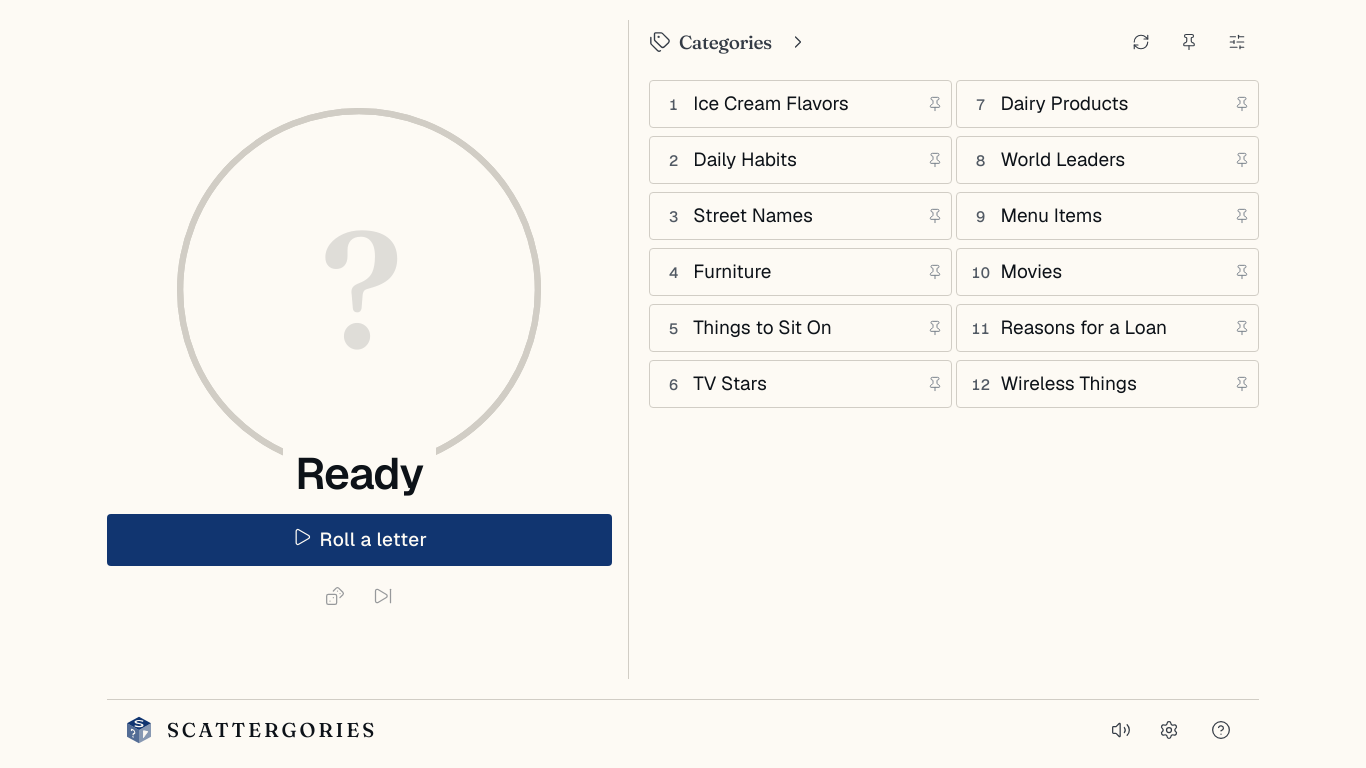
Test: reveals category tools with the category shortcut
Expected: the heading "Scattergories" is shown, [167,720,377,740]
Click the button named "Hide categories": (798, 42) [776,20,820,64]
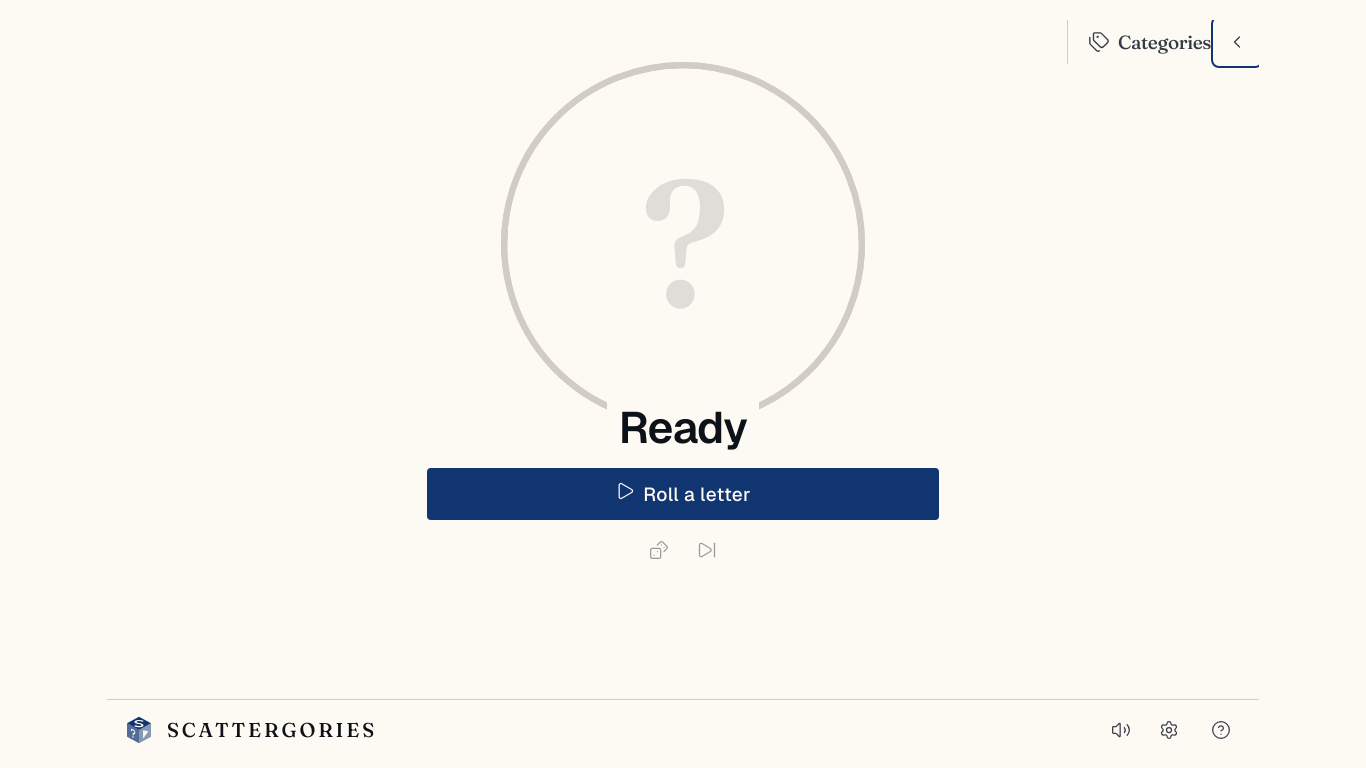
Expected: the button named "Open categories" is collapsed, [1215,20,1259,64]
Type keys "c"
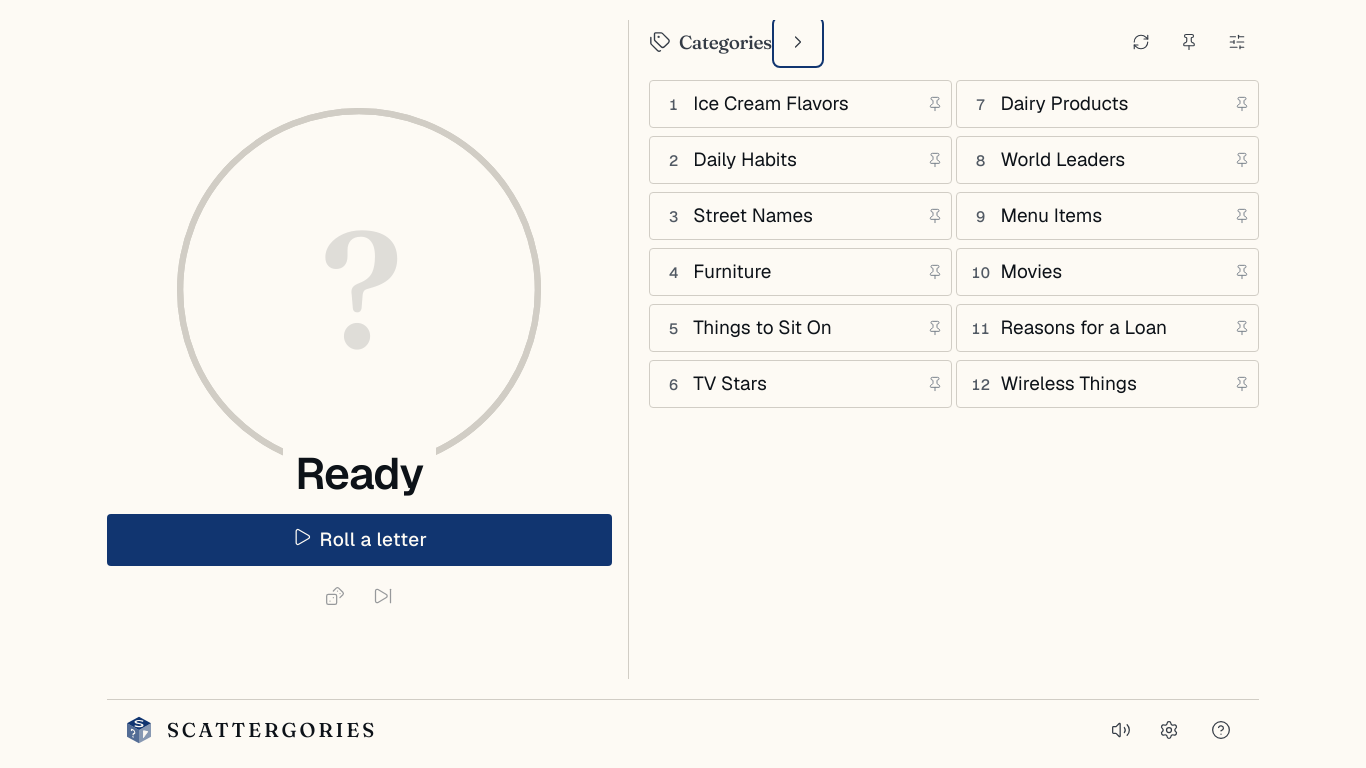
Expected: the button named "Customize deck" is shown, [1215,20,1259,64]
